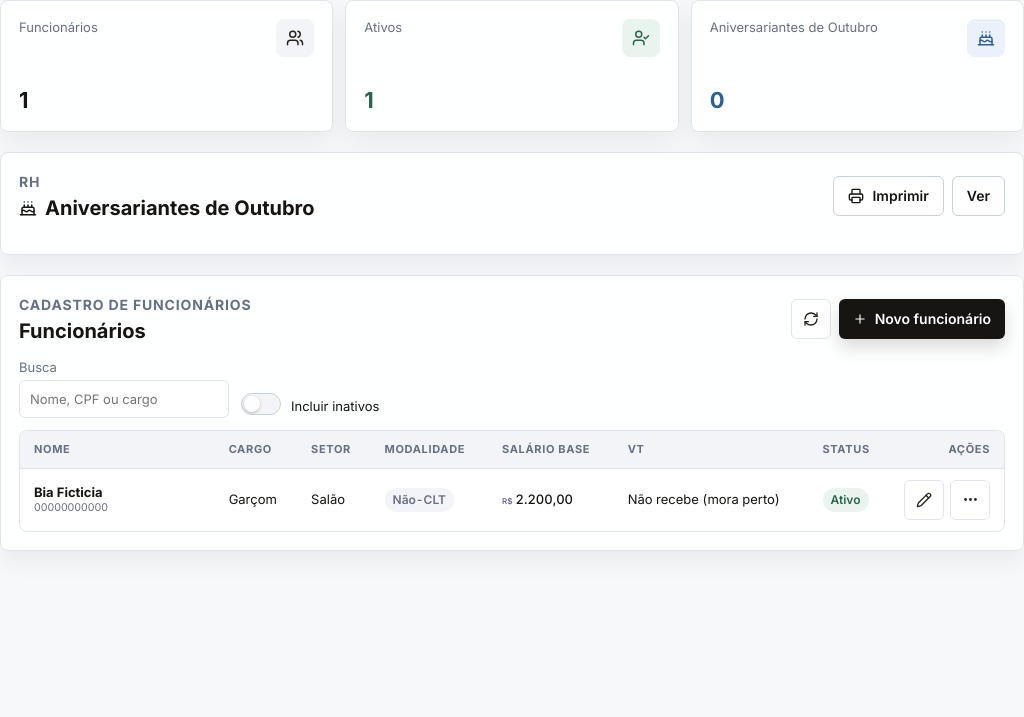
Test: ficha: Entra na gorjeta em › ficha carrega a data gravada
Click the button named "Editar" at {"x": 924, "y": 500}, box [904,480,944,520]
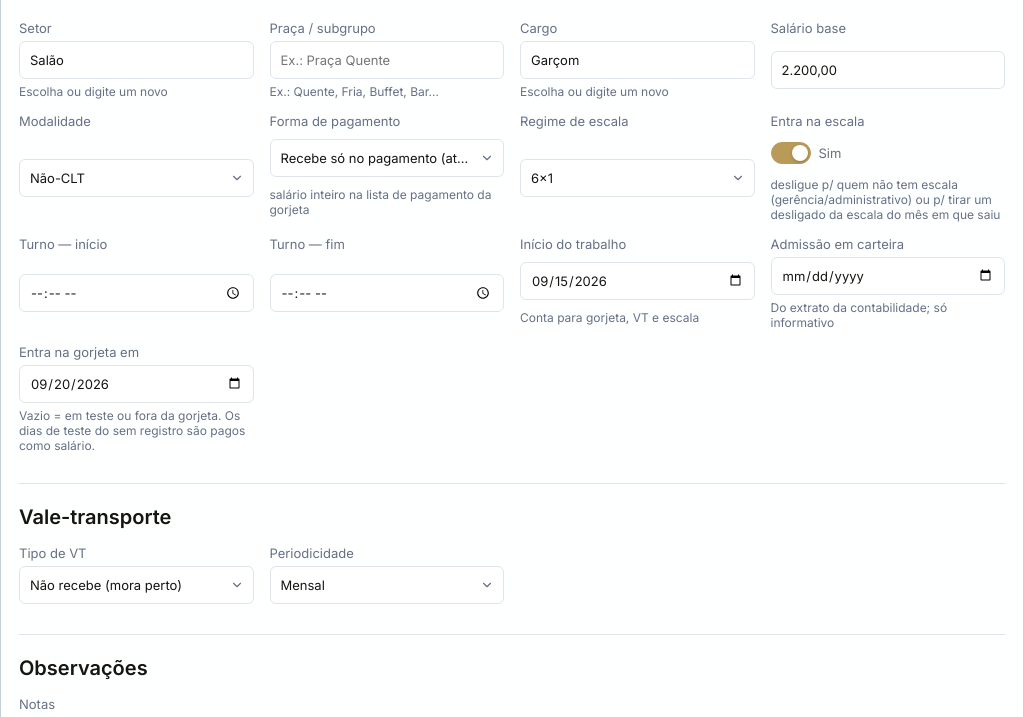
Now the date field labelled "Entra na gorjeta em" holds "2026-09-20", box [19,364,254,402]
